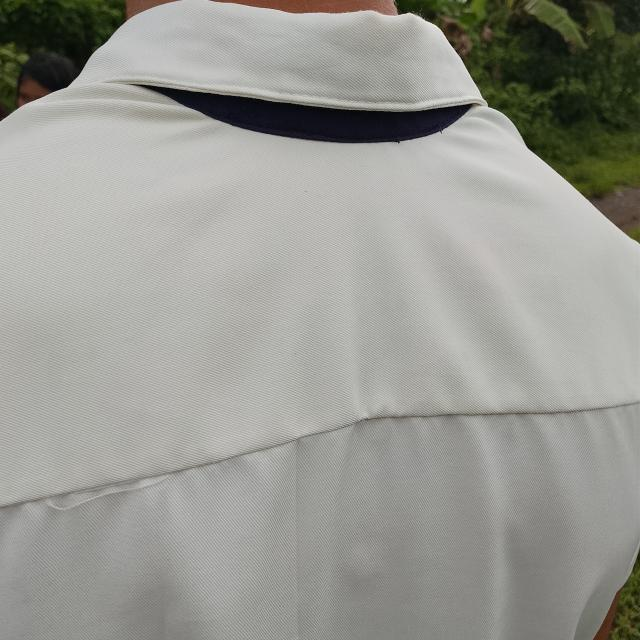education_male_uniform: (12, 0, 640, 598)
